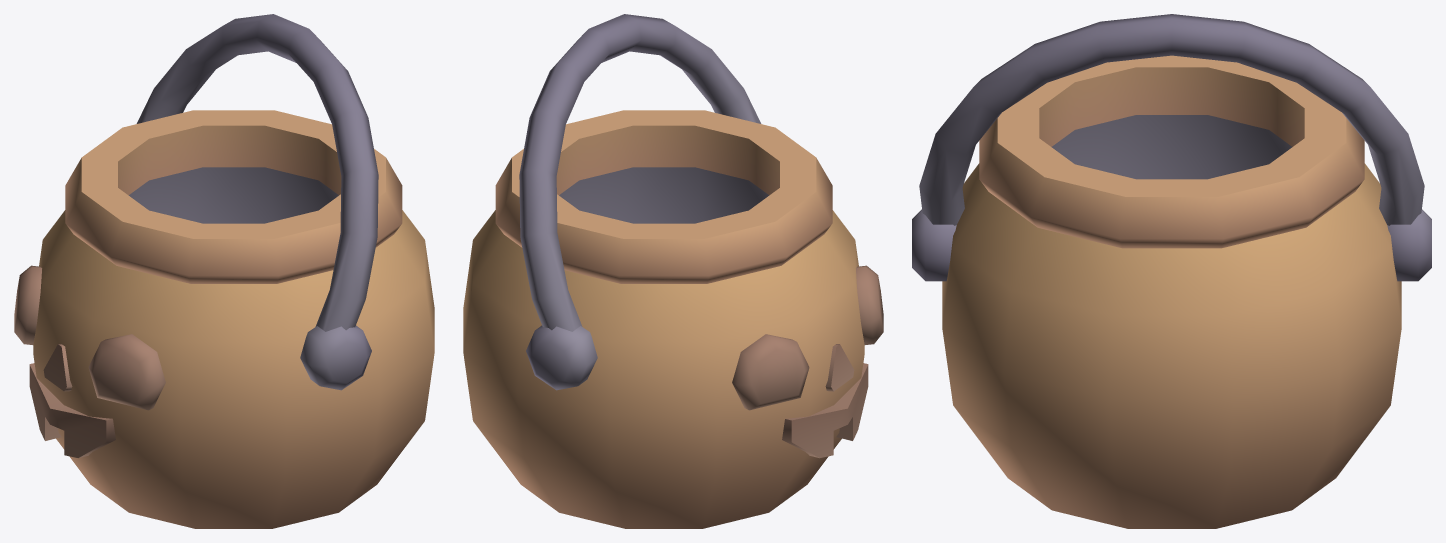
The model's file is candy-bucket.glb.
3 views of the same model, side by side, from view 1: azimuth 30°, elevation 25°; view 2: azimuth 150°, elevation 25°; view 3: azimuth 270°, elevation 25° (orthographic). The views are drawn at different scales.
Visible parts, largest first — view 1: candy-bucket; view 2: candy-bucket; view 3: candy-bucket.
Part boxes in pixels (bbox=[...]): candy-bucket: bbox=[14, 14, 434, 528]; candy-bucket: bbox=[463, 14, 883, 528]; candy-bucket: bbox=[912, 14, 1431, 528].
Bounding box in the file's own units: 0.3146 × 0.3541 × 0.346.
